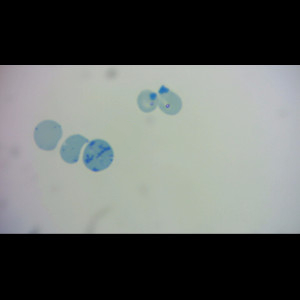aggregate reticulocyte: (81, 138, 115, 173)
erythrocyte: (157, 85, 183, 116), (136, 88, 160, 113)
punctate reticulocyte: (59, 132, 90, 164), (33, 119, 63, 151)
